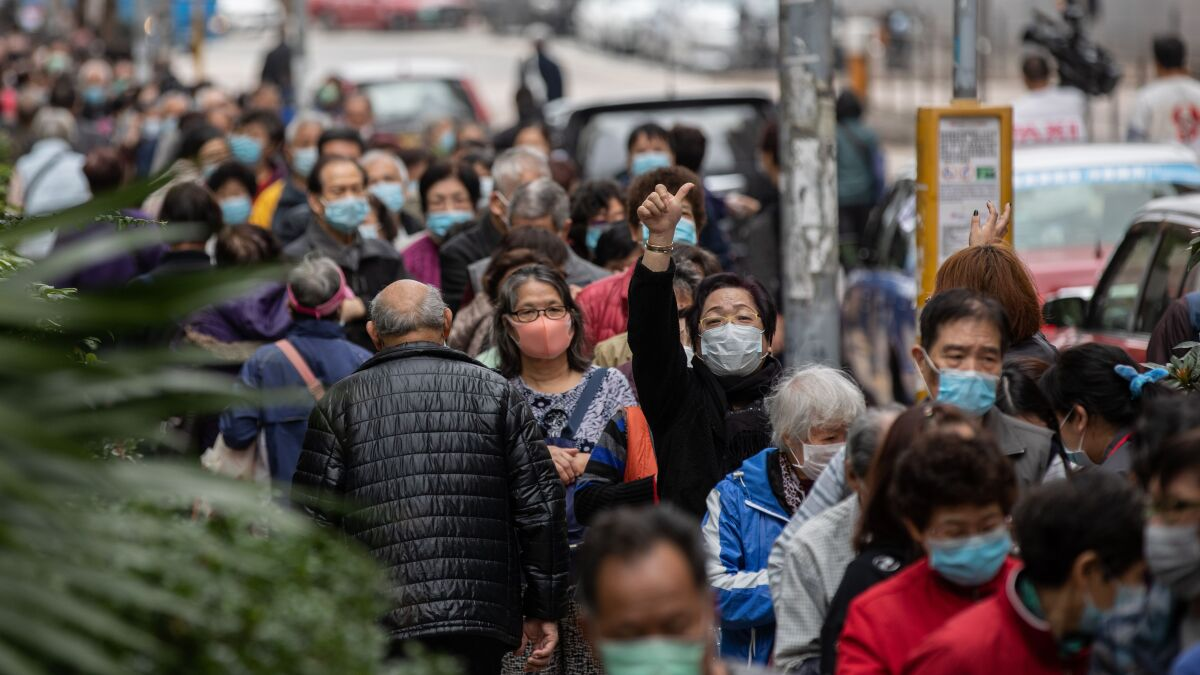Head: (903, 437, 1010, 579), (908, 289, 1004, 421), (692, 271, 773, 376), (499, 265, 573, 359), (418, 164, 481, 237), (305, 155, 366, 226)
